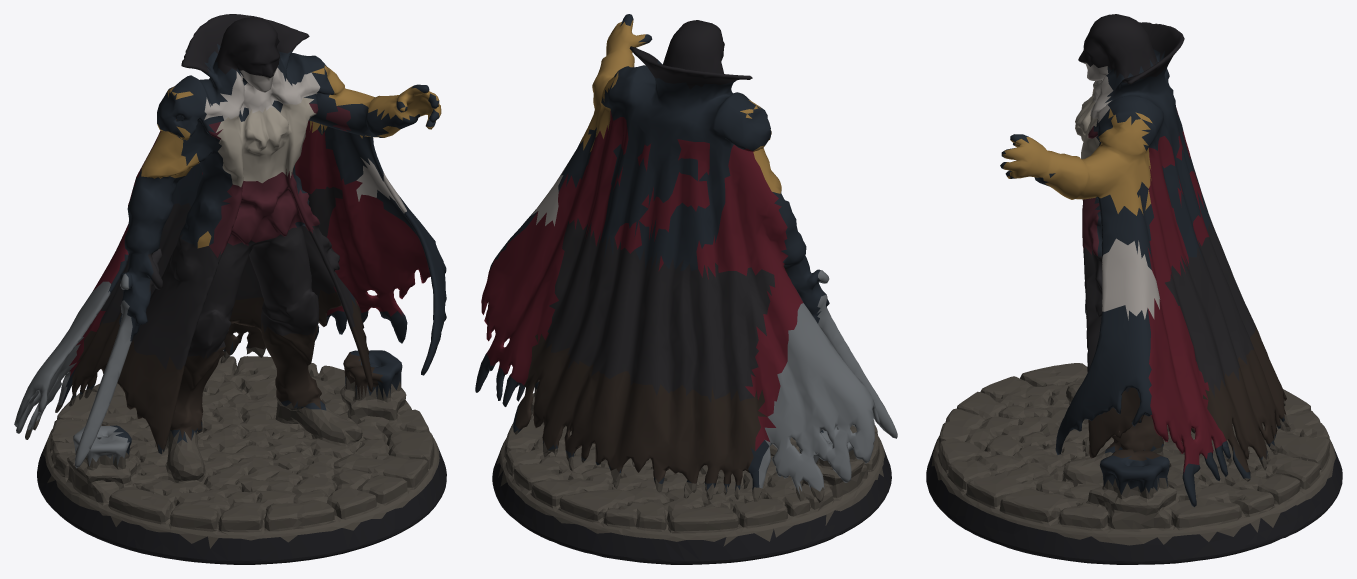
Rendered from vampiro_anciao.glb.
3 renders of one model, left to right at view 1: azimuth 30°, elevation 25°; view 2: azimuth 150°, elevation 25°; view 3: azimuth 270°, elevation 25°, orthographic. The views are drawn at different scales.
Parts seen in each view (by area): view 1: tmpykigy19k.ply; view 2: tmpykigy19k.ply; view 3: tmpykigy19k.ply.
Boxes of the visible parts, box(x1,y1,x2,y2) form: tmpykigy19k.ply: box(14, 14, 446, 564); tmpykigy19k.ply: box(475, 14, 897, 564); tmpykigy19k.ply: box(926, 14, 1342, 564).
Bounding box in the file's own units: 1.81 × 1.96 × 1.59.
